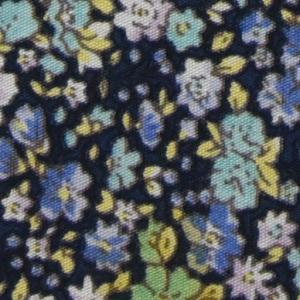Stain: (111, 203, 228, 300)
